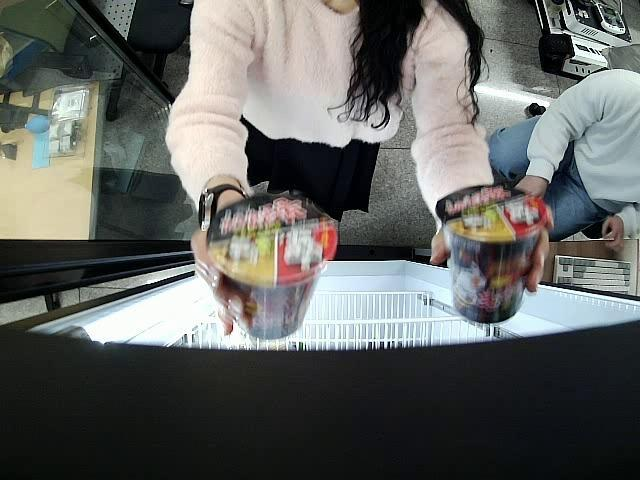08_buldak_S: (208, 191, 340, 343), (438, 183, 546, 324)
